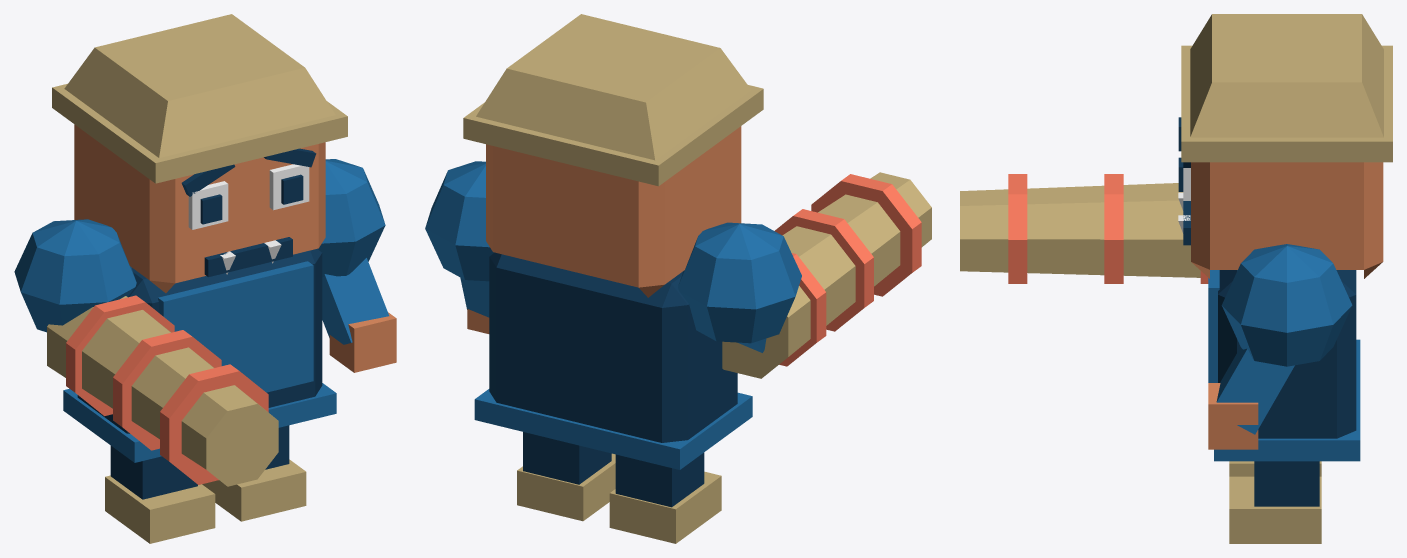
File: breacher_r15.glb
3 renders of one model, left to right at view 1: azimuth 30°, elevation 25°; view 2: azimuth 150°, elevation 25°; view 3: azimuth 270°, elevation 25°, orthographic. The views are drawn at different scales.
Visible parts, largest first — view 1: breacher_r15_mesh; view 2: breacher_r15_mesh; view 3: breacher_r15_mesh.
Part boxes in pixels (x1=…): breacher_r15_mesh: x1=14, y1=14, x2=396, y2=543; breacher_r15_mesh: x1=425, y1=14, x2=931, y2=543; breacher_r15_mesh: x1=960, y1=14, x2=1392, y2=543.
Bounding box in the file's own units: 1.68 × 2 × 1.72.
Materials: 1 (1 with a texture image).
